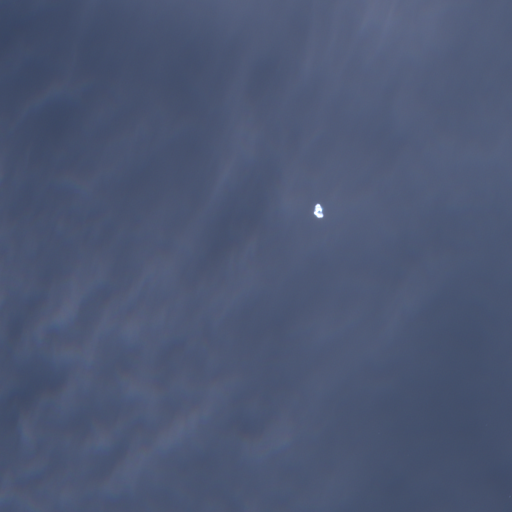Iceberg: (313, 203, 323, 217)
